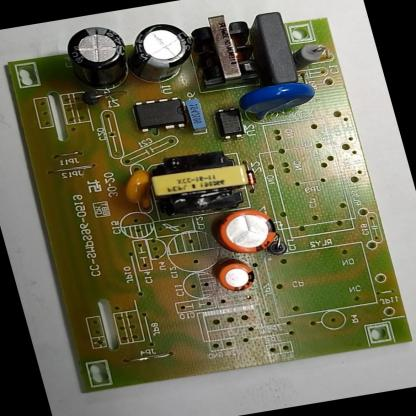Cap1: (210, 204, 283, 260)
Cap2: (212, 258, 258, 296)
Cap3: (121, 18, 202, 87)
Cap4: (60, 21, 137, 93)
MOSFET: (128, 94, 191, 137)
Mov: (235, 78, 323, 124)
Resistor: (292, 38, 330, 70)
Transformer: (141, 144, 256, 220), (185, 8, 267, 90)
